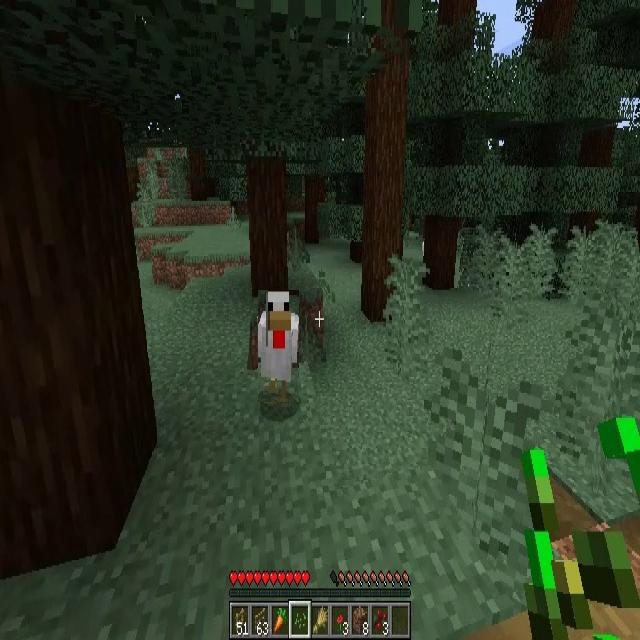duck: (258, 290, 299, 402)
